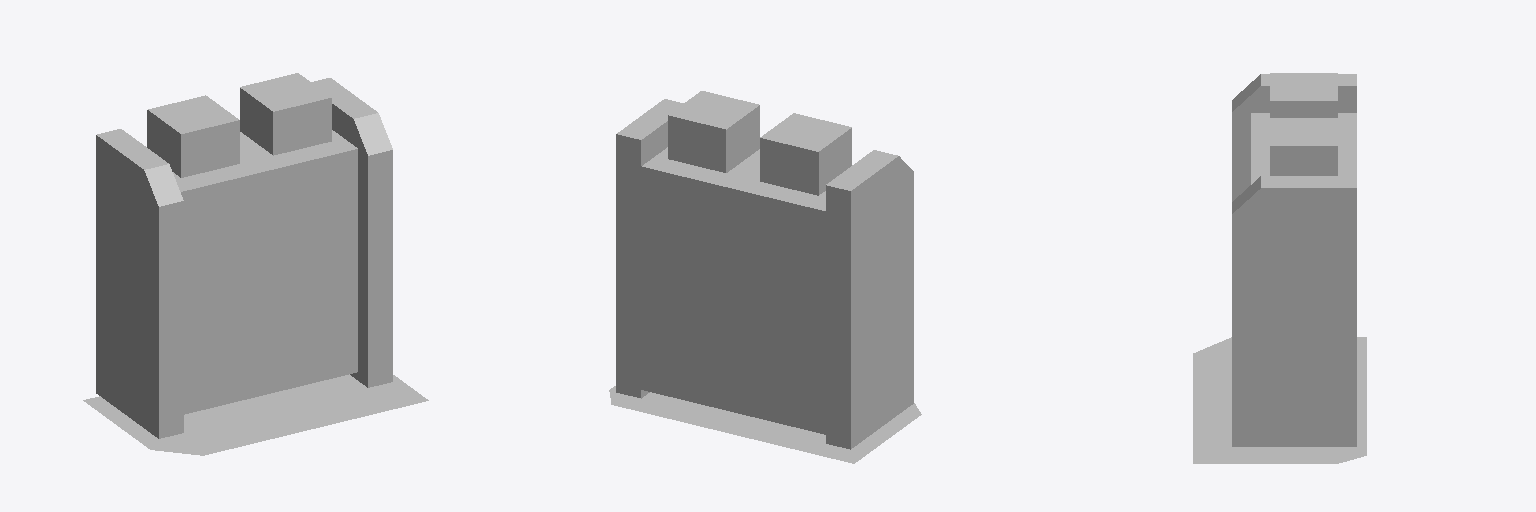
The model's file is Poke Mart Shelf 3.obj.
3 renders of one model, left to right at view 1: azimuth 30°, elevation 25°; view 2: azimuth 150°, elevation 25°; view 3: azimuth 270°, elevation 25°, orthographic.
Parts seen in each view (by area): view 1: polygon1, polygon0; view 2: polygon1, polygon0; view 3: polygon1, polygon0.
Part boxes in pixels (x1,y1,x2,y2): polygon1: (96, 73, 392, 438); polygon0: (83, 374, 428, 455); polygon1: (616, 91, 913, 449); polygon0: (609, 386, 921, 463); polygon1: (1232, 73, 1356, 446); polygon0: (1193, 337, 1366, 463).
Size of the model in its own units: 31 by 33 by 18.